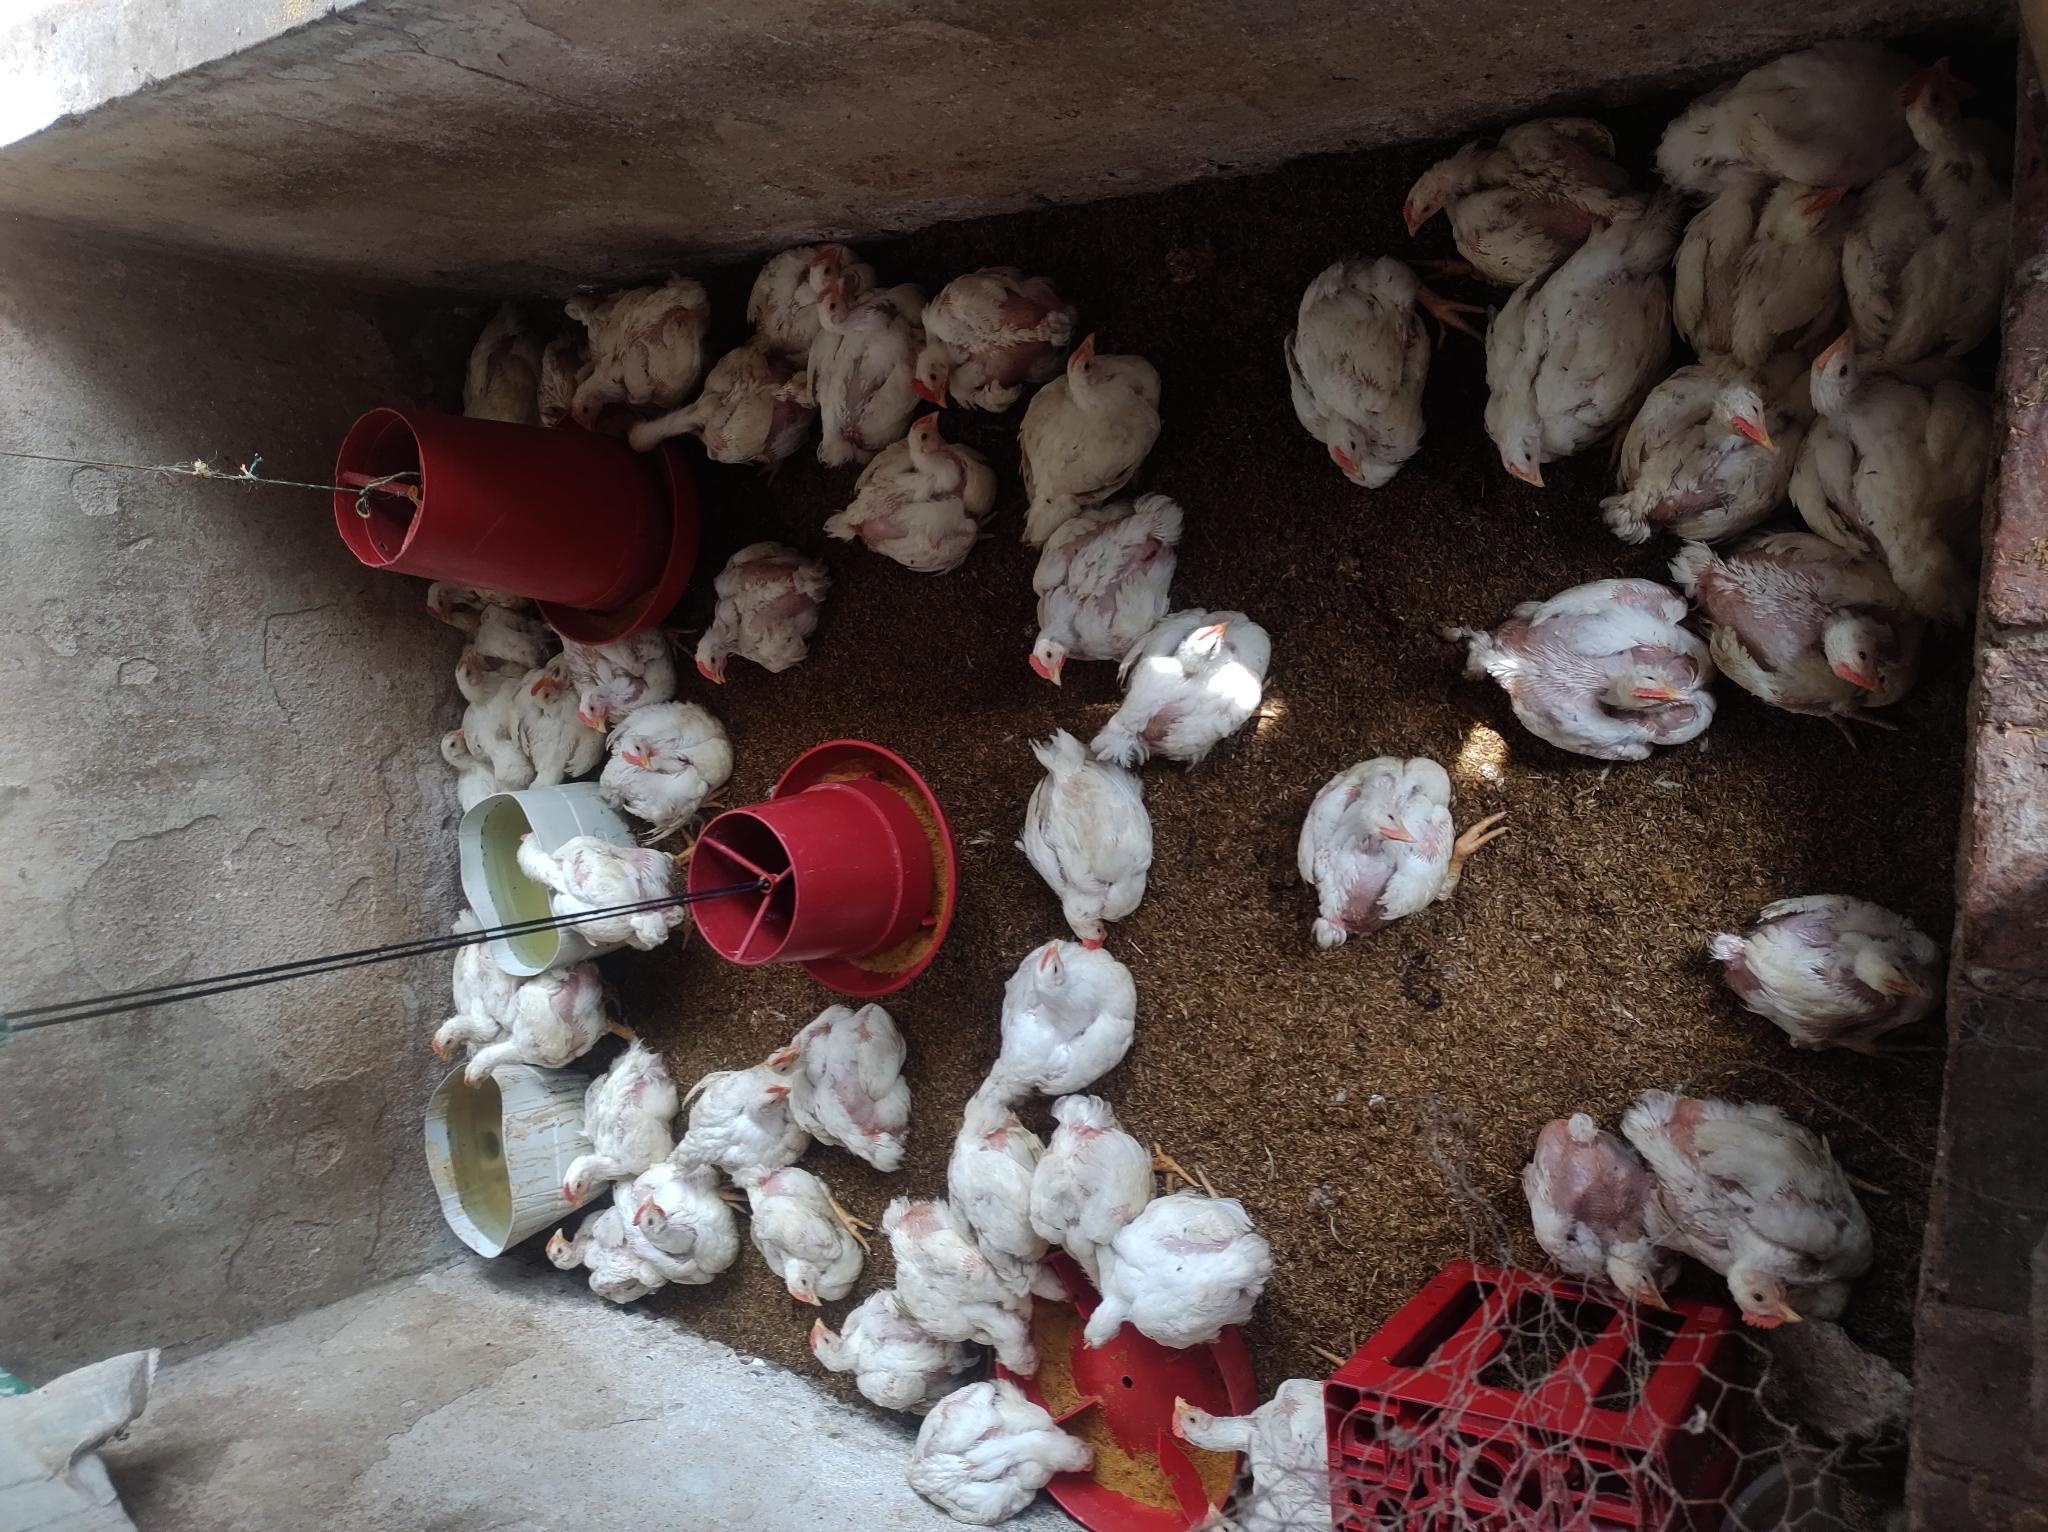Pollos: (1630, 1083, 1874, 1337), (1475, 209, 1672, 497), (1667, 529, 1918, 719), (1839, 71, 2003, 356), (1655, 24, 1932, 191), (1470, 574, 1710, 760), (1800, 327, 1998, 550), (1392, 124, 1639, 283), (1599, 356, 1807, 544), (1710, 888, 1943, 1054), (1660, 175, 1850, 373), (1281, 254, 1432, 500), (1515, 1106, 1683, 1320), (1289, 755, 1458, 951), (1076, 1192, 1277, 1355), (1018, 327, 1165, 537), (940, 1093, 1078, 1305), (1026, 499, 1176, 690), (882, 1199, 1039, 1378), (1022, 729, 1145, 954), (903, 1379, 1094, 1521), (1112, 599, 1274, 764), (829, 407, 988, 574), (1170, 1379, 1335, 1532), (769, 1004, 920, 1172), (991, 937, 1137, 1109), (914, 262, 1071, 410), (1030, 1094, 1158, 1270), (512, 822, 684, 949), (808, 274, 919, 463), (565, 285, 706, 433), (690, 539, 825, 689), (455, 966, 605, 1098), (560, 1044, 677, 1209), (621, 352, 804, 455), (598, 702, 735, 829), (745, 1167, 862, 1308), (671, 1064, 809, 1175), (430, 911, 515, 1070), (618, 1172, 742, 1279), (795, 1292, 956, 1374), (743, 238, 861, 349), (450, 647, 536, 787), (545, 1209, 669, 1302), (561, 628, 669, 732), (455, 298, 537, 423), (524, 660, 595, 779), (438, 726, 516, 811), (417, 573, 523, 626), (529, 333, 576, 431)
